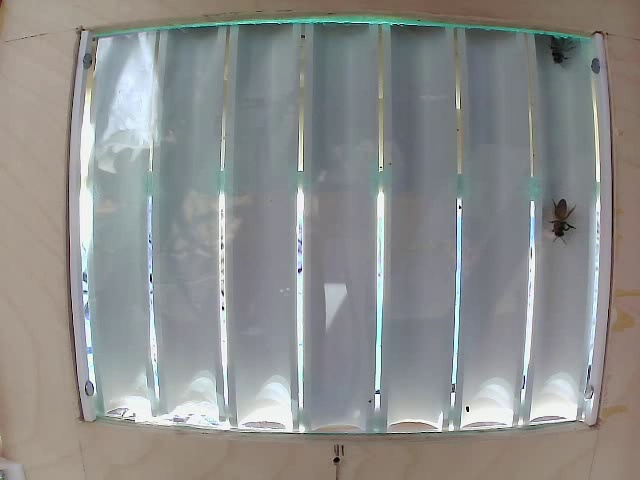bee: (540, 203, 583, 237)
